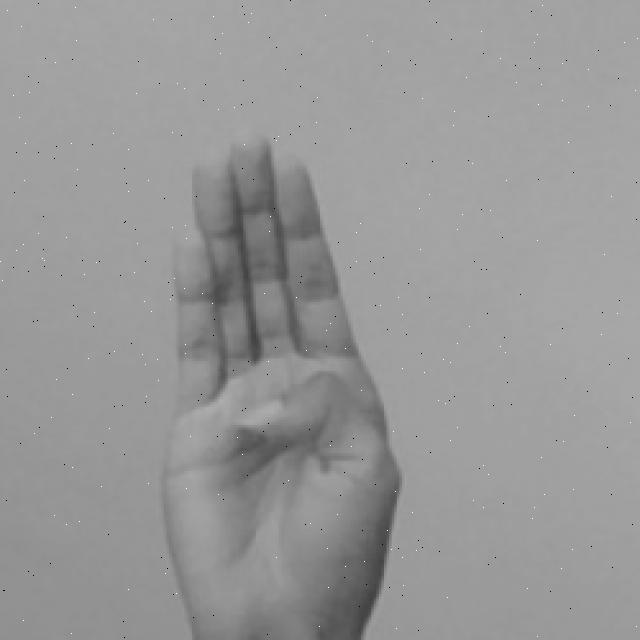B: (156, 133, 406, 640)
